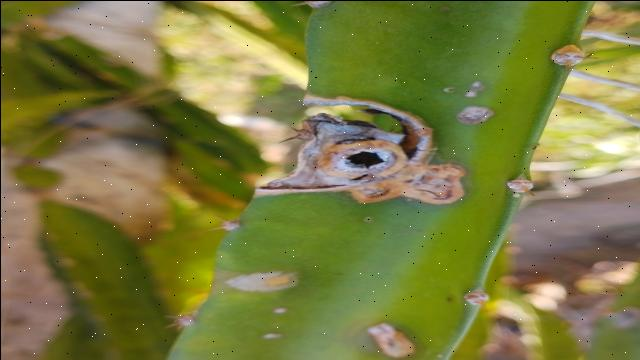stemcanker: (215, 265, 301, 296), (368, 319, 423, 359), (454, 104, 496, 129)
